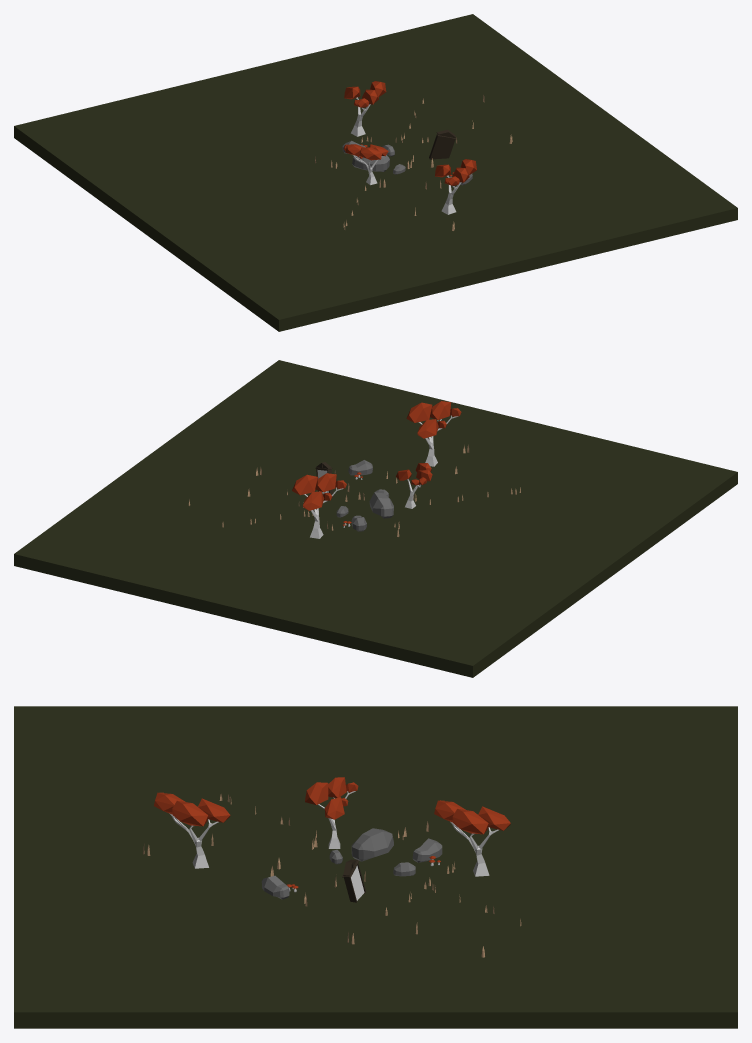
Rendered from Forest.fbx.
3 renders of one model, top to bottom at view 1: azimuth 30°, elevation 25°; view 2: azimuth 150°, elevation 25°; view 3: azimuth 270°, elevation 25°, orthographic. The views are drawn at different scales.
Parts seen in each view (by area): view 1: Ground, Icosphere.001, Icosphere.002, MirrorOuter; view 2: Ground, Icosphere.001, Icosphere.002; view 3: Ground, Icosphere.001, Icosphere.002, Icosphere, Stone.003, TreeBase.002, TreeBase.001.
Boxes of the visible parts, left/top/right/bottom form: Ground: left=14, top=14, right=737, bottom=331; Icosphere.001: left=344, top=81, right=386, bottom=107; Icosphere.002: left=435, top=159, right=476, bottom=185; MirrorOuter: left=429, top=129, right=456, bottom=159; Ground: left=14, top=360, right=737, bottom=677; Icosphere.001: left=292, top=473, right=346, bottom=510; Icosphere.002: left=406, top=401, right=461, bottom=438; Ground: left=14, top=706, right=737, bottom=1028; Icosphere.001: left=434, top=800, right=510, bottom=834; Icosphere.002: left=154, top=792, right=230, bottom=826; Icosphere: left=305, top=777, right=358, bottom=819; Stone.003: left=351, top=828, right=393, bottom=861; TreeBase.002: left=169, top=813, right=218, bottom=868; TreeBase.001: left=450, top=821, right=498, bottom=876.
Size of what is drawn, in the model's own units: 80 by 10.77 by 80.
